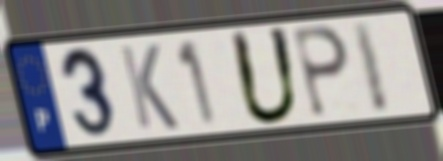1: (173, 37, 219, 130)
3: (59, 43, 123, 144)
I: (348, 17, 393, 117)
K: (116, 42, 182, 132)
P: (289, 23, 352, 120)
U: (226, 24, 304, 129)
